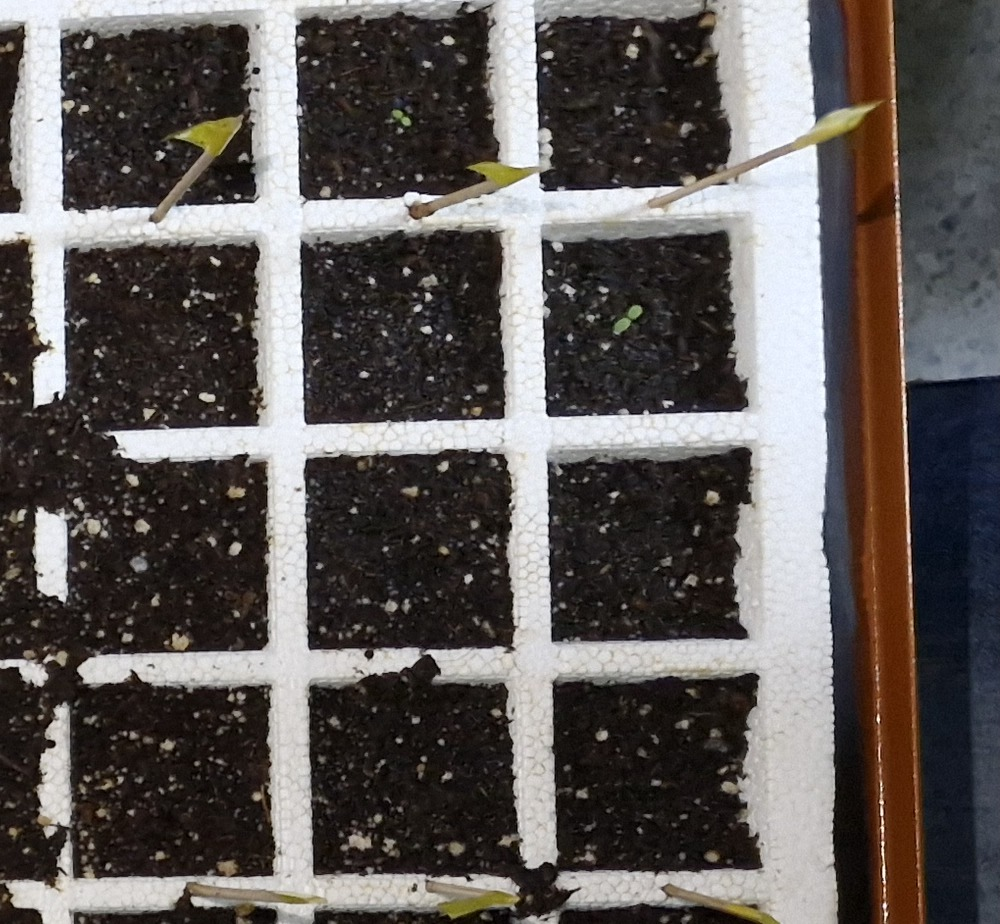Folha: (628, 305, 643, 319), (615, 319, 632, 331), (392, 110, 403, 118)
Germinacao: (615, 305, 643, 331), (391, 110, 412, 126)
